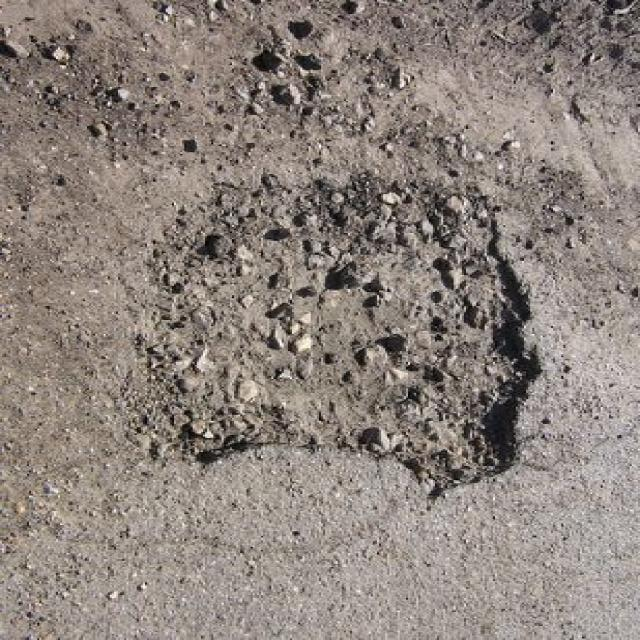Pothole: (125, 164, 554, 494)
